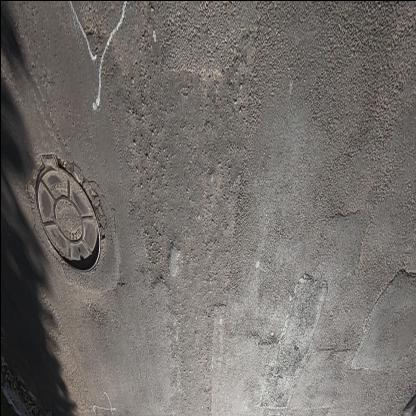manholes: (30, 124, 107, 290)
